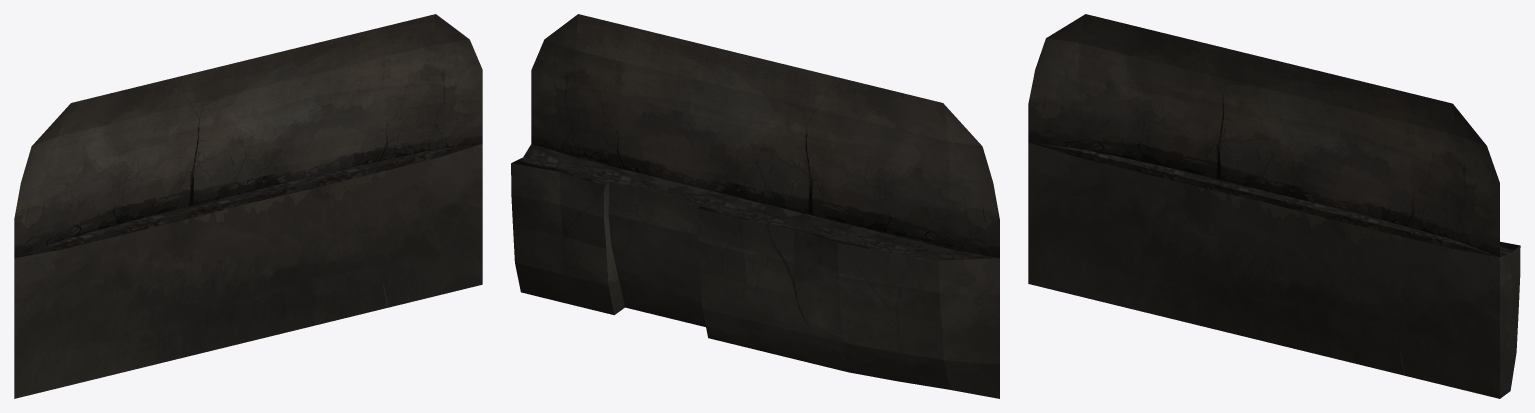
File: kiret.obj
3 renders of one model, left to right at view 1: azimuth 30°, elevation 25°; view 2: azimuth 150°, elevation 25°; view 3: azimuth 330°, elevation 25°, orthographic.
Parts seen in each view (by area): view 1: Plane; view 2: Plane; view 3: Plane.
Boxes of the visible parts, x1=… form: Plane: x1=14, y1=14, x2=482, y2=398; Plane: x1=511, y1=14, x2=999, y2=398; Plane: x1=1028, y1=14, x2=1520, y2=398.
Bounding box in the file's own units: 14.87 × 8.85 × 1.64.
